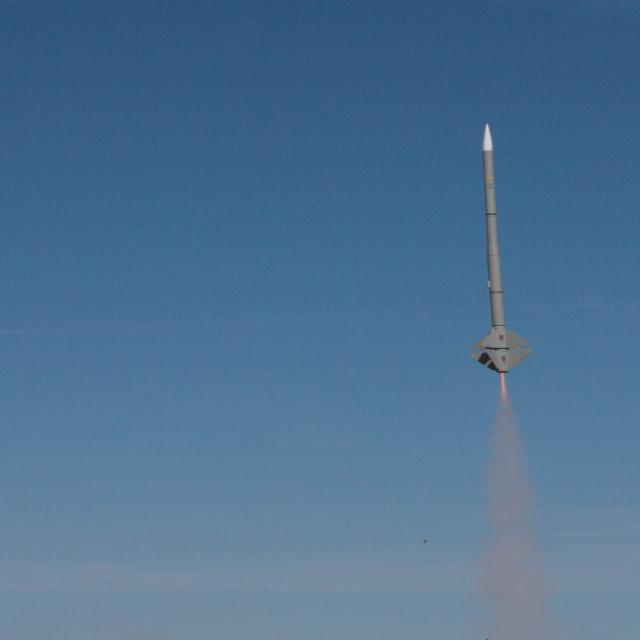Rocket: (466, 122, 534, 376)
